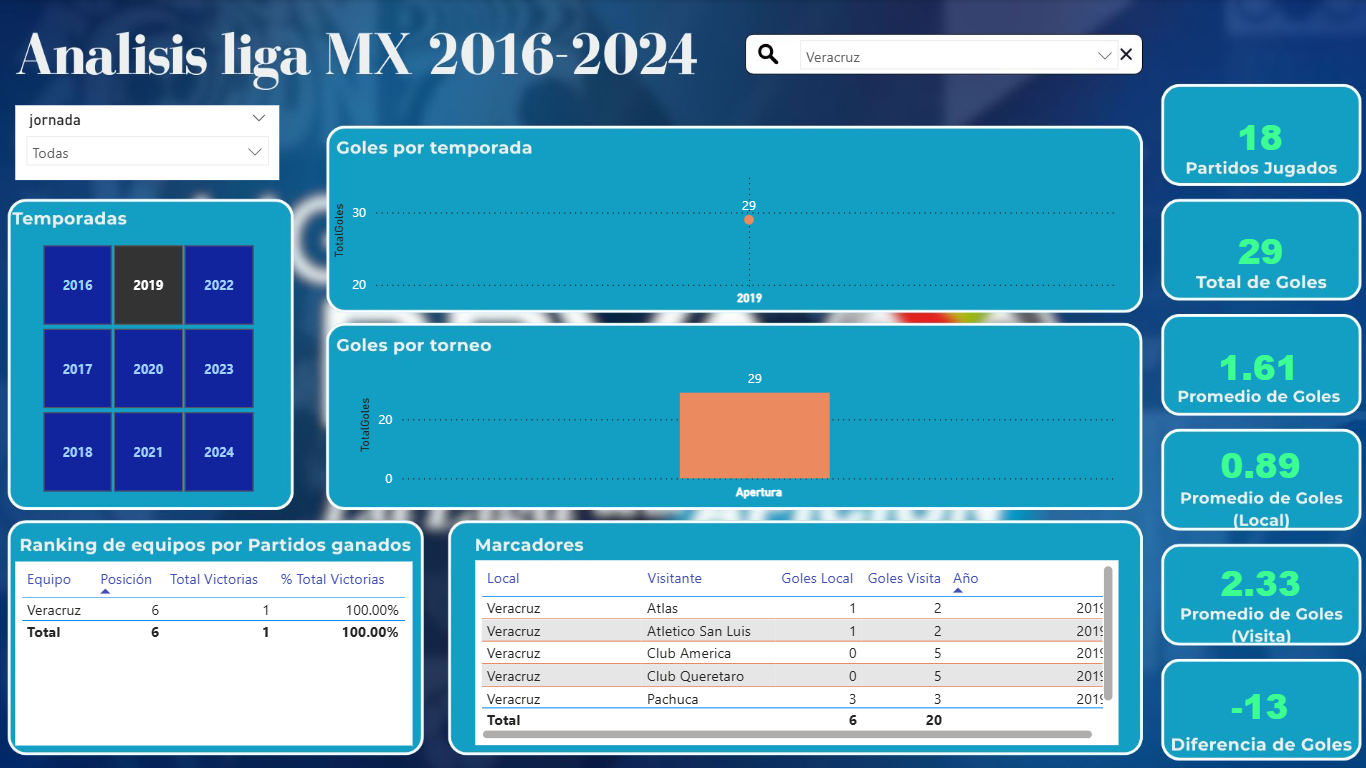

This screenshot's page, from the dashboard's own definition file:
{"tool":"powerbi","page":{"name":"Página 1","canvas":[1280,720],"ordinal":0},"visuals":[{"type":"slicer","fields":{"Values":["2016-2024_liga_mx.season"]},"box":[20.3,221.6,245.7,243.1],"z":0},{"type":"card","fields":{"Values":["2016-2024_liga_mx.partidosTotales"]},"box":[1099.2,88.6,158.3,79.8],"z":1000},{"type":"card","fields":{"Values":["2016-2024_liga_mx.TotalGoles"]},"box":[1108,191.2,140.6,87.4],"z":2000},{"type":"card","fields":{"Values":["Avg(2016-2024_liga_mx.home_goals)"]},"box":[1108,393.8,140.6,79.8],"z":3000},{"type":"card","fields":{"Values":["Avg(2016-2024_liga_mx.away_goals)"]},"box":[1077.6,497.7,201.3,91.2],"z":4000},{"type":"clusteredColumnChart","fields":{"Category":["2016-2024_liga_mx.tournament"],"Y":["2016-2024_liga_mx.TotalGoles"]},"box":[334.3,333,712.9,140.6],"z":5000},{"type":"card","fields":{"Values":["2016-2024_liga_mx.difGoles"]},"box":[1087.8,621.8,181.1,72.2],"z":6000},{"type":"slicer","fields":{"Values":["2016-2024_liga_mx.home_team"]},"box":[739.5,27.9,316.6,40.5],"z":7000},{"type":"card","fields":{"Values":["2016-2024_liga_mx.Promedio Goles Equipo"]},"box":[1086.5,297.6,181.1,89.9],"z":8000},{"type":"tableEx","fields":{"Values":["2016-2024_liga_mx.home_team","2016-2024_liga_mx.PartidosGanados","2016-2024_liga_mx.Total Victorias","Divide(2016-2024_liga_mx.Total Victorias, ScopedEval(2016-2024_liga_mx.Total Victorias, []))"]},"box":[20.3,523,369.8,171],"z":10000},{"type":"tableEx","fields":{"Values":["2016-2024_liga_mx.home_team","2016-2024_liga_mx.away_team","Sum(2016-2024_liga_mx.home_goals)","Sum(2016-2024_liga_mx.away_goals)","2016-2024_liga_mx.date.Variación.Jerarquía de fechas.Año"]},"box":[448,522.5,598.4,171.6],"z":11000},{"type":"slicer","fields":{"Values":["2016-2024_liga_mx.jornada"]},"box":[20.3,98.8,245.7,69.6],"z":12000},{"type":"lineChart","fields":{"Y":["2016-2024_liga_mx.TotalGoles"],"Category":["2016-2024_liga_mx.season"]},"box":[310.3,150.7,737,141.8],"z":13000}]}

Visuals, with their boxes in screenshot pixels (x1, y1, x2, y2), scaled from the page's 1280x720 canvas onto the 1366x768 screenshot:
slicer - 2016-2024_liga_mx.season: bbox(22, 236, 284, 496)
card - 2016-2024_liga_mx.partidosTotales: bbox(1173, 95, 1342, 180)
card - 2016-2024_liga_mx.TotalGoles: bbox(1182, 204, 1332, 297)
card - Avg(2016-2024_liga_mx.home_goals): bbox(1182, 420, 1332, 505)
card - Avg(2016-2024_liga_mx.away_goals): bbox(1150, 531, 1365, 628)
clusteredColumnChart - 2016-2024_liga_mx.tournament x 2016-2024_liga_mx.TotalGoles: bbox(357, 355, 1118, 505)
card - 2016-2024_liga_mx.difGoles: bbox(1161, 663, 1354, 740)
slicer - 2016-2024_liga_mx.home_team: bbox(789, 30, 1127, 73)
card - 2016-2024_liga_mx.Promedio Goles Equipo: bbox(1159, 317, 1353, 413)
tableEx - 2016-2024_liga_mx.home_team x 2016-2024_liga_mx.PartidosGanados: bbox(22, 558, 416, 740)
tableEx - 2016-2024_liga_mx.home_team x 2016-2024_liga_mx.away_team: bbox(478, 557, 1117, 740)
slicer - 2016-2024_liga_mx.jornada: bbox(22, 105, 284, 180)
lineChart - 2016-2024_liga_mx.TotalGoles x 2016-2024_liga_mx.season: bbox(331, 161, 1118, 312)
